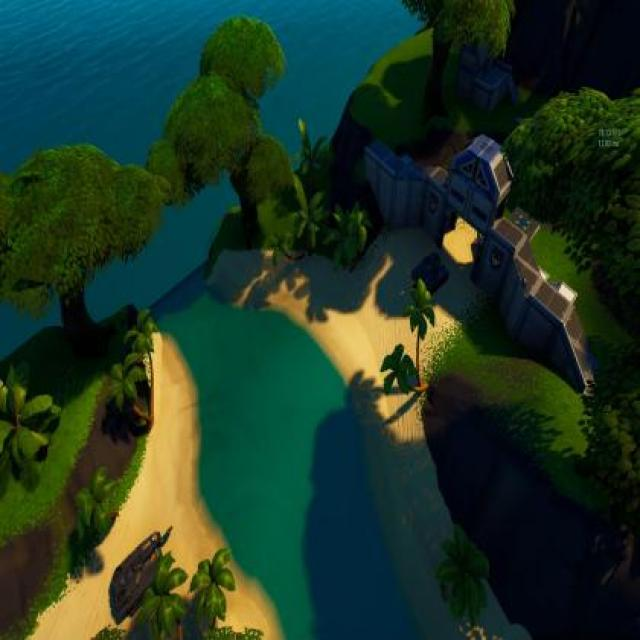tank: (107, 527, 172, 623), (398, 250, 451, 300)
